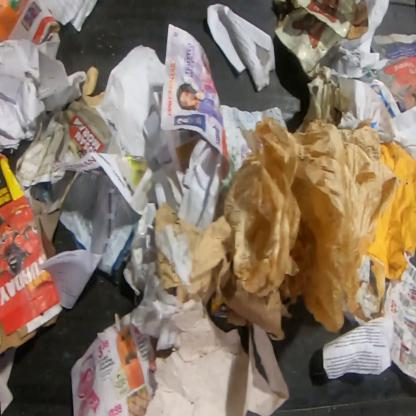cardboard: (0, 151, 65, 356), (13, 98, 122, 188), (270, 0, 368, 81), (365, 140, 415, 284), (222, 278, 287, 353), (0, 0, 63, 46), (81, 65, 105, 108)
